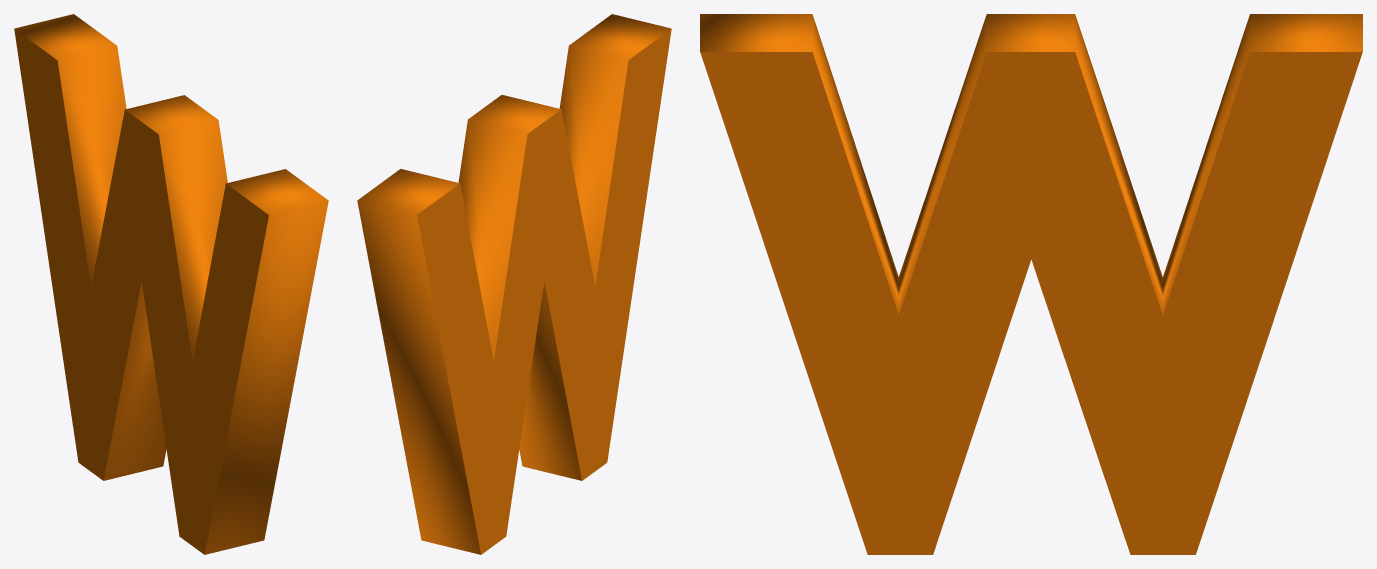
Rendered from W_orange.fbx.
3 renders of one model, left to right at view 1: azimuth 30°, elevation 25°; view 2: azimuth 150°, elevation 25°; view 3: azimuth 270°, elevation 25°, orthographic. The views are drawn at different scales.
Visible parts, largest first — view 1: W_orange; view 2: W_orange; view 3: W_orange.
Part boxes in pixels (x1=…): W_orange: x1=14, y1=14, x2=328, y2=554; W_orange: x1=357, y1=14, x2=671, y2=554; W_orange: x1=700, y1=14, x2=1362, y2=554.
Size of the model in its own units: 24 by 149 by 177.
